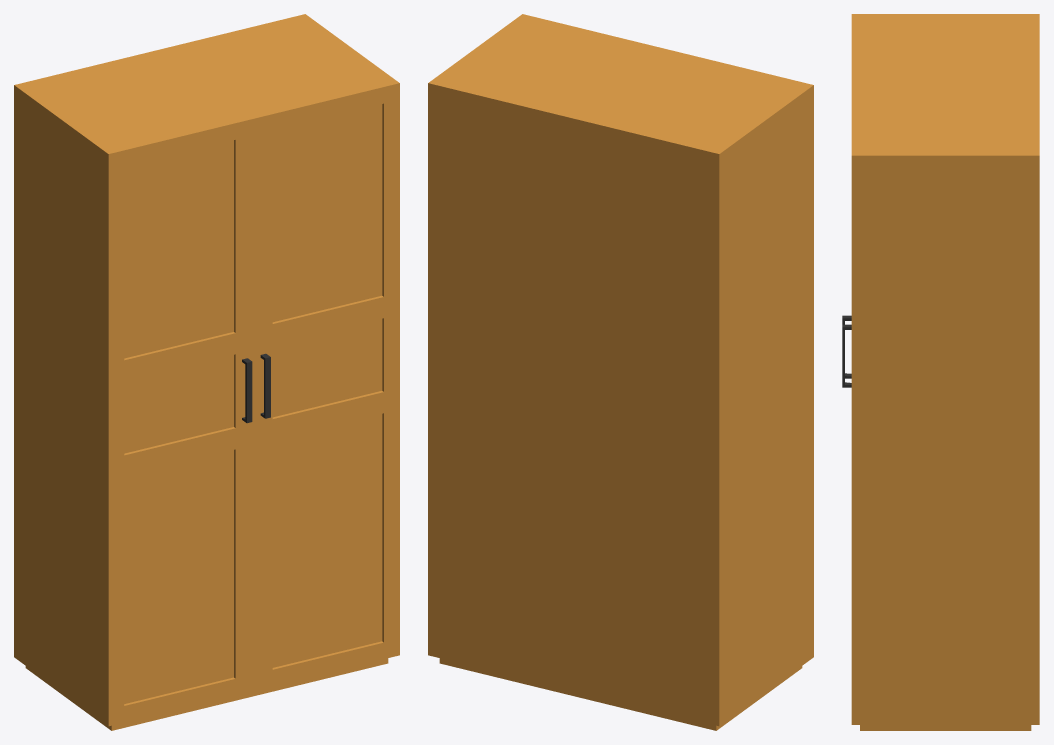
3 renders of one model, left to right at view 1: azimuth 30°, elevation 25°; view 2: azimuth 150°, elevation 25°; view 3: azimuth 270°, elevation 25°, orthographic.
Visible parts, largest first — view 1: Cube.009; view 2: Cube.009; view 3: Cube.009.
Part boxes in pixels (bbox=[...]): Cube.009: bbox=[14, 14, 399, 730]; Cube.009: bbox=[428, 14, 813, 730]; Cube.009: bbox=[842, 14, 1039, 730].
Size of the model in its own units: 131 by 251 by 77.44.
